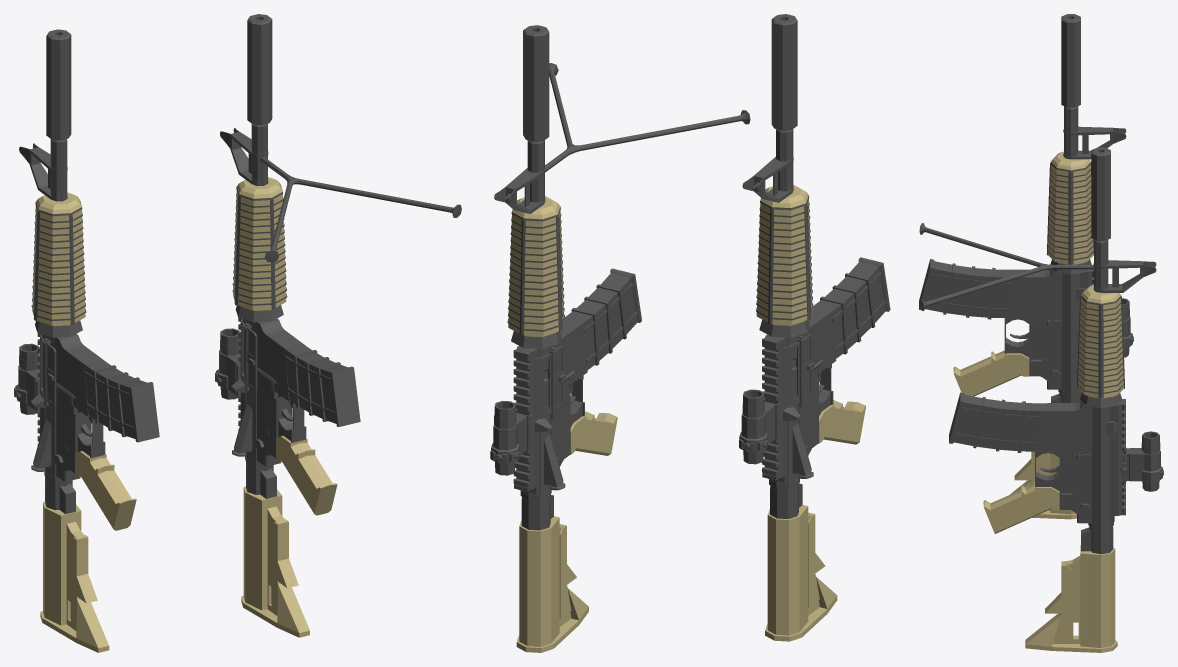
The picture shows the model from 3 angles, left to right: view 1: azimuth 30°, elevation 25°; view 2: azimuth 150°, elevation 25°; view 3: azimuth 270°, elevation 25°; orthographic projection. The views are drawn at different scales.
Parts seen in each view (by area): view 1: M16, M16.001; view 2: M16, M16.001; view 3: M16, M16.001.
Boxes of the visible parts, x1=… form: M16: x1=215, y1=14, x2=461, y2=637; M16.001: x1=14, y1=29, x2=159, y2=652; M16: x1=490, y1=25, x2=750, y2=652; M16.001: x1=739, y1=14, x2=890, y2=641; M16: x1=919, y1=147, x2=1163, y2=652; M16.001: x1=919, y1=14, x2=1133, y2=519.
Bounding box in the file's own units: 0.761 × 1.35 × 0.5552.
